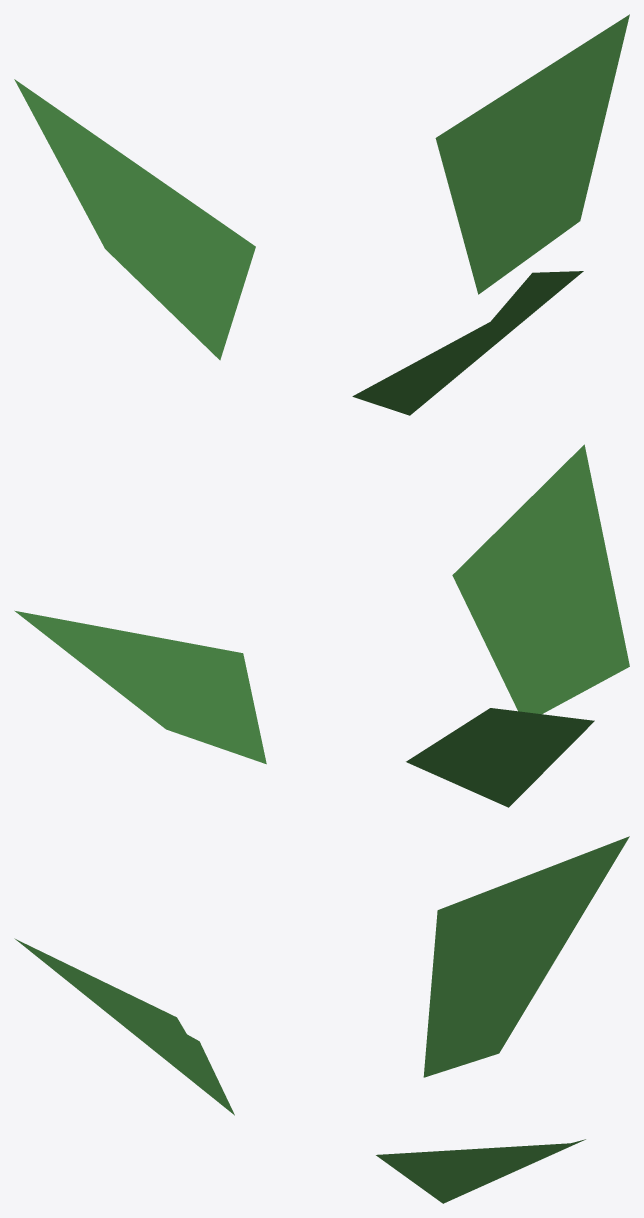
The model's file is cabbage_seeded.glb.
3 renders of one model, top to bottom at view 1: azimuth 30°, elevation 25°; view 2: azimuth 150°, elevation 25°; view 3: azimuth 270°, elevation 25°, orthographic. The views are drawn at different scales.
Visible parts, largest first — view 1: Plane; view 2: Plane; view 3: Plane.
Boxes of the visible parts, x1=… form: Plane: x1=14, y1=14, x2=629, y2=415; Plane: x1=14, y1=444, x2=629, y2=807; Plane: x1=14, y1=836, x2=629, y2=1203.
Bounding box in the file's own units: 0.8365 × 0.3059 × 0.8222.
